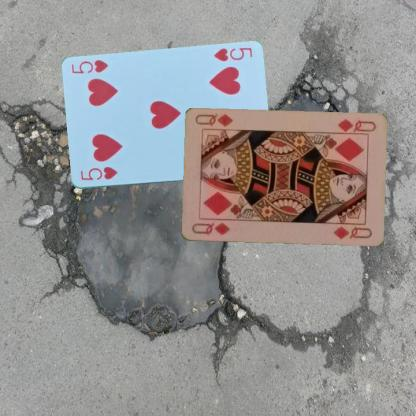5h: (210, 45, 253, 63), (78, 164, 118, 182)
Qd: (332, 117, 377, 136), (189, 219, 231, 237)
